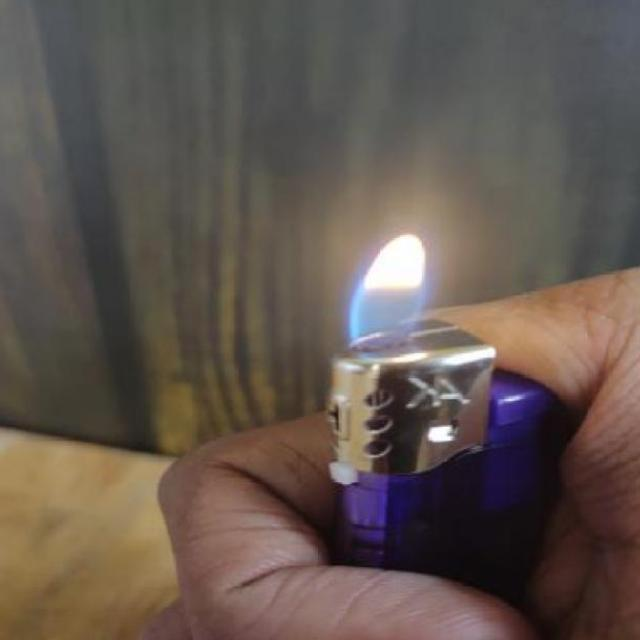smoke: (342, 226, 430, 355)
